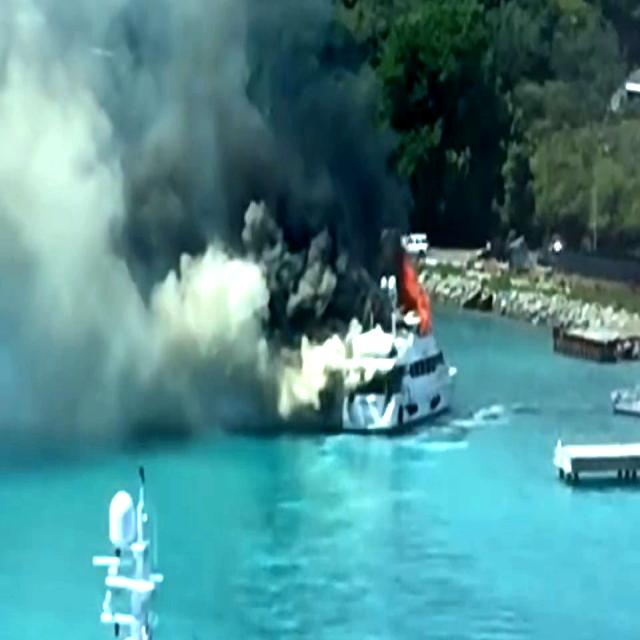smoke: (147, 175, 354, 422)
